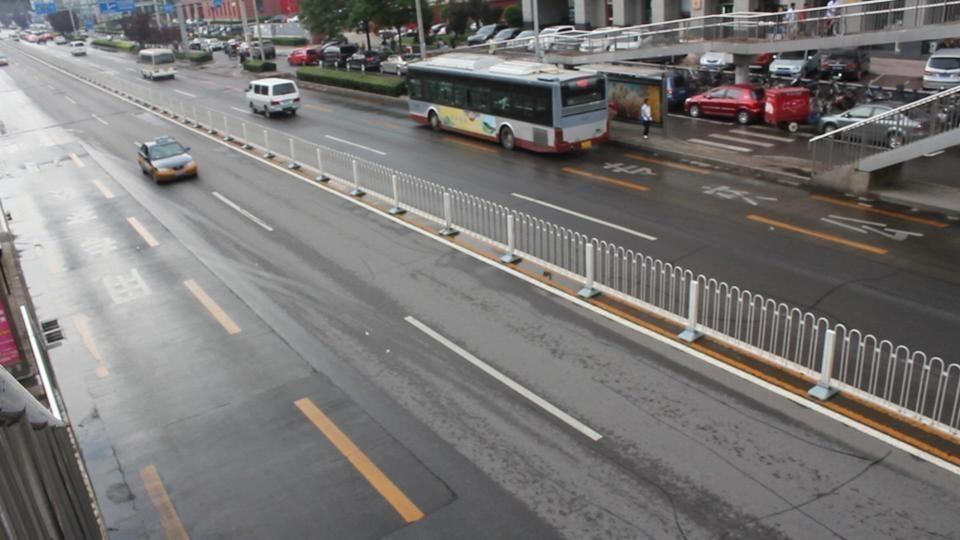car: (684, 84, 767, 125), (135, 134, 199, 185), (813, 102, 903, 136), (243, 77, 303, 118), (816, 48, 871, 82), (768, 48, 821, 82), (922, 46, 960, 89), (467, 25, 527, 48), (319, 43, 360, 67), (239, 40, 277, 63), (346, 50, 384, 73), (500, 29, 539, 50), (380, 55, 414, 77), (287, 48, 321, 66), (21, 28, 53, 44), (71, 43, 87, 55), (0, 52, 11, 67)
